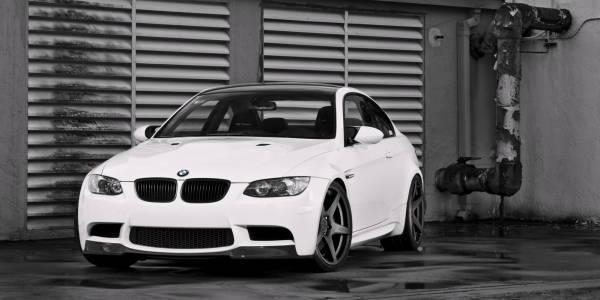Car: (63, 68, 448, 283)
